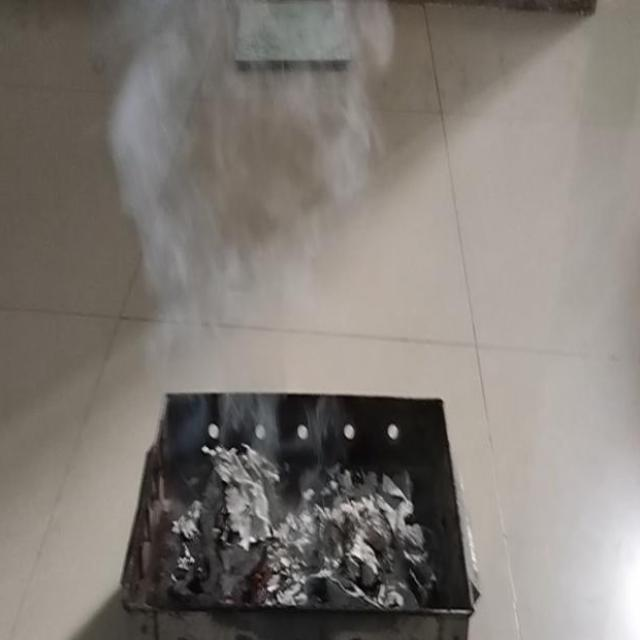fire: (103, 0, 392, 328)
